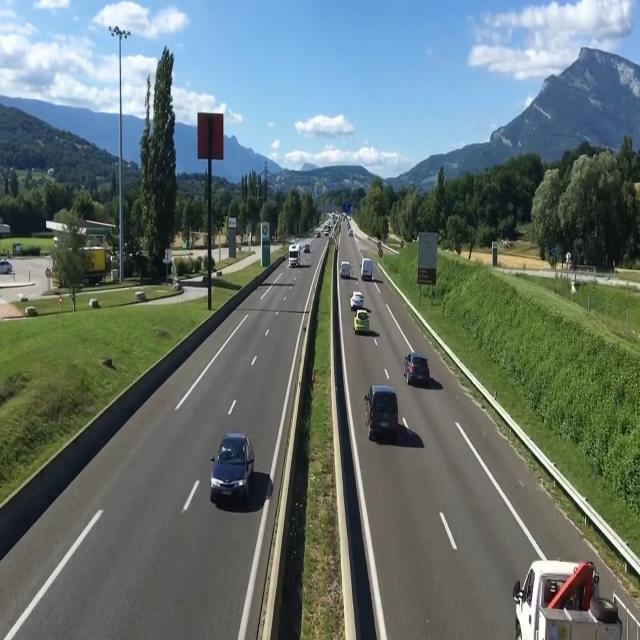car: (520, 566, 609, 638), (211, 428, 255, 507), (366, 382, 402, 448), (404, 348, 435, 392), (351, 297, 374, 342), (286, 236, 310, 273), (362, 260, 375, 282), (340, 260, 352, 280)
